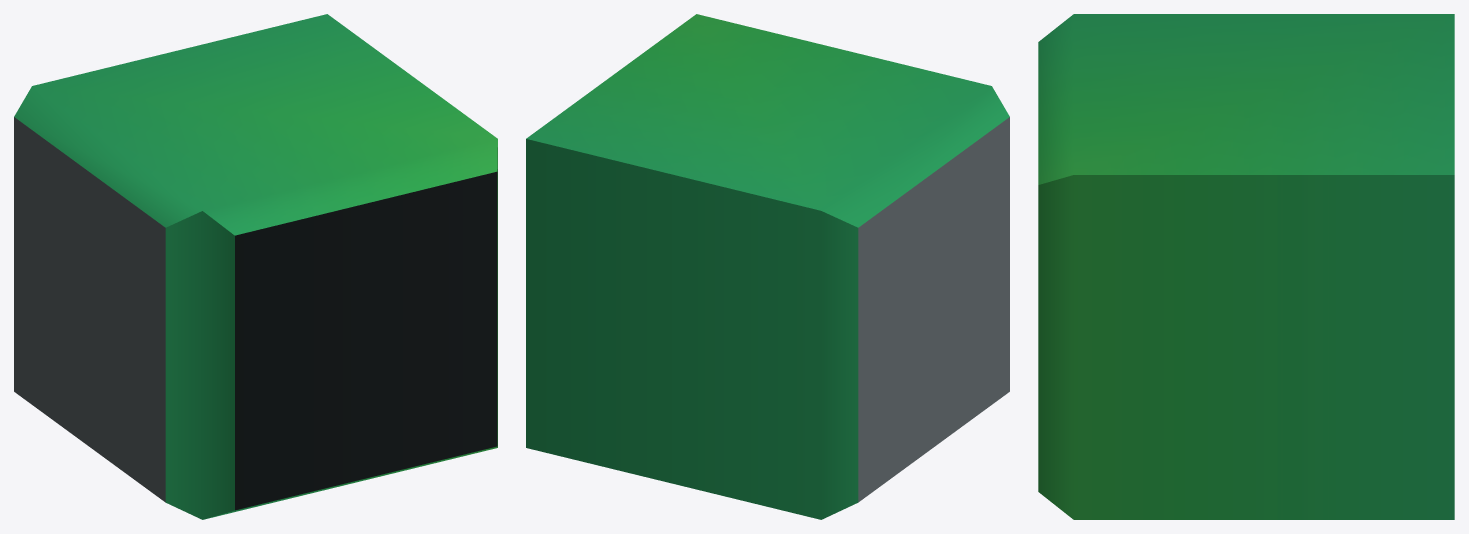
Rendered from puzzlecube_center_puzzlecube_O.glb.
The picture shows the model from 3 angles, left to right: view 1: azimuth 30°, elevation 25°; view 2: azimuth 150°, elevation 25°; view 3: azimuth 270°, elevation 25°; orthographic projection. The views are drawn at different scales.
Parts seen in each view (by area): view 1: puzzlecube_O; view 2: puzzlecube_O; view 3: puzzlecube_O.
Boxes of the visible parts, x1,y1,x2,y2 form: puzzlecube_O: (14,14,497,519); puzzlecube_O: (526,14,1009,519); puzzlecube_O: (1038,14,1454,519).
Bounding box in the file's own units: 0.1457 × 0.1333 × 0.1457.
1 material, 1 textured.
